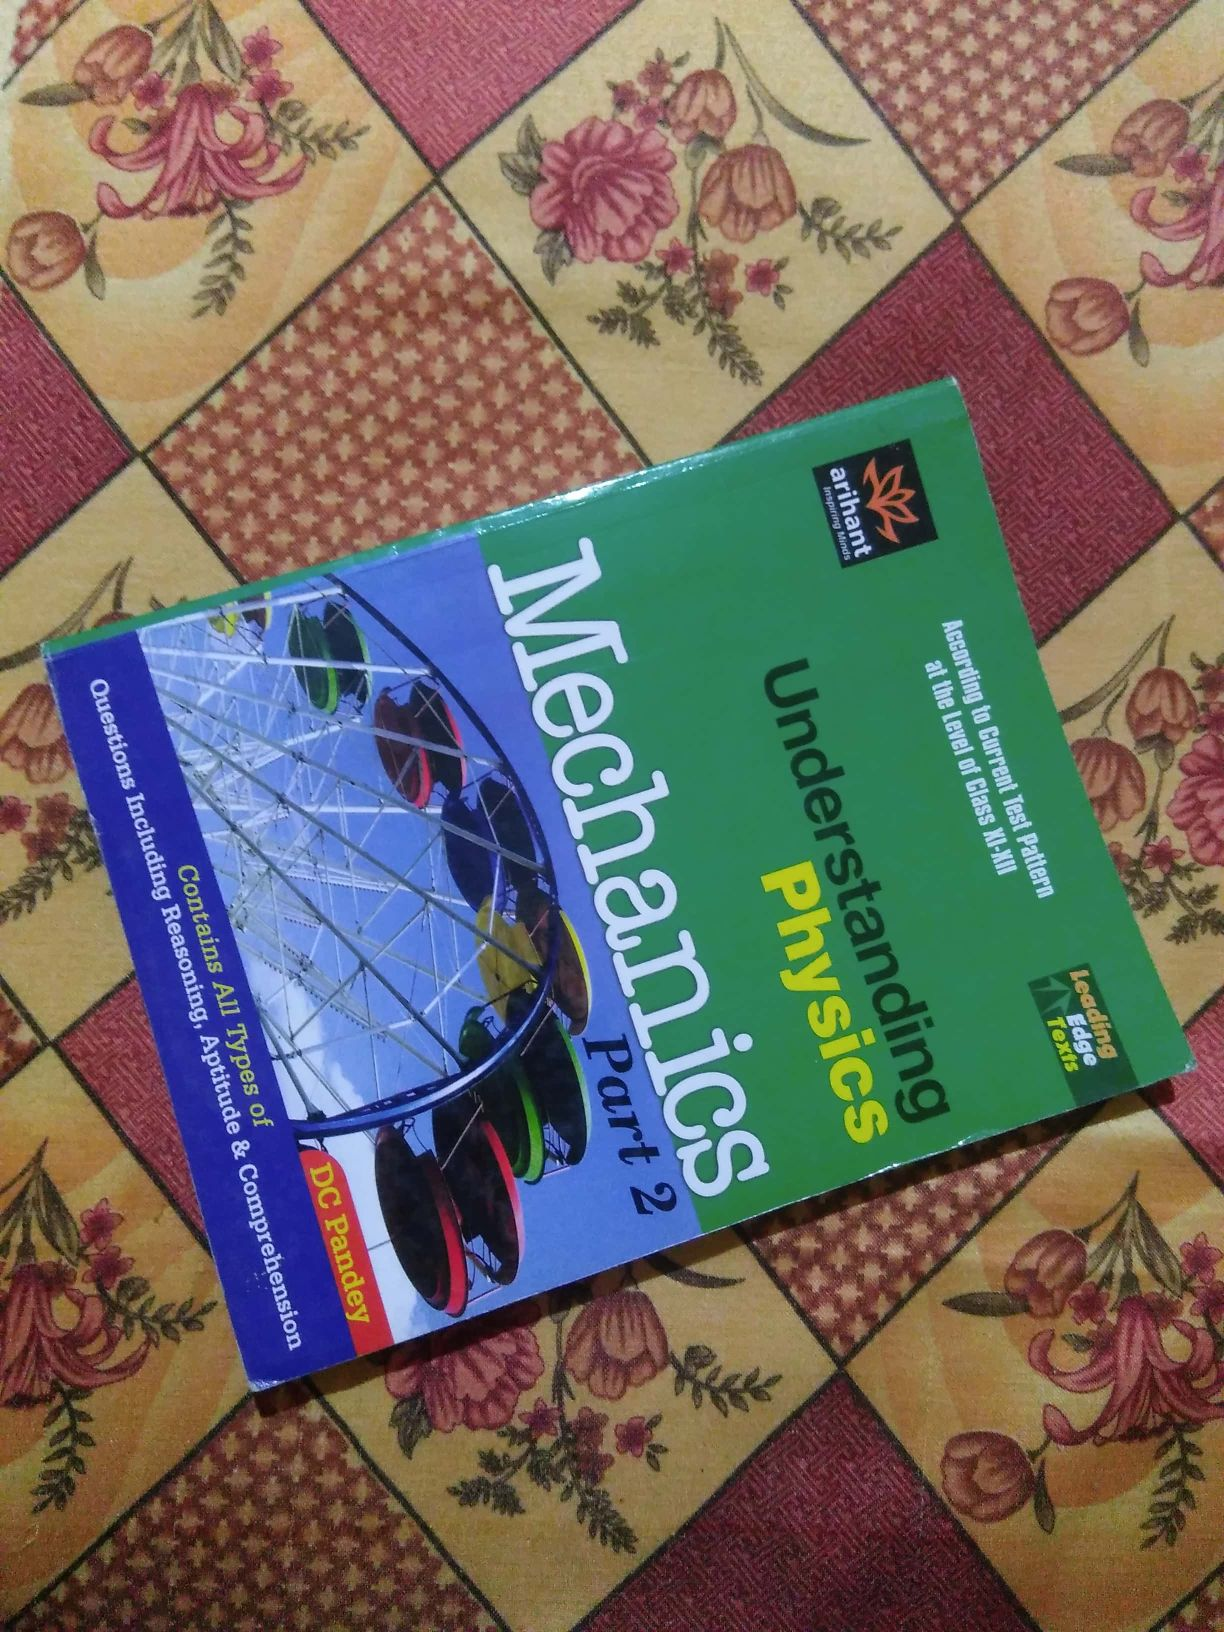mechanics: (84, 468, 1137, 1282)
